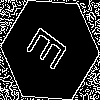E: (25, 25, 76, 78)
